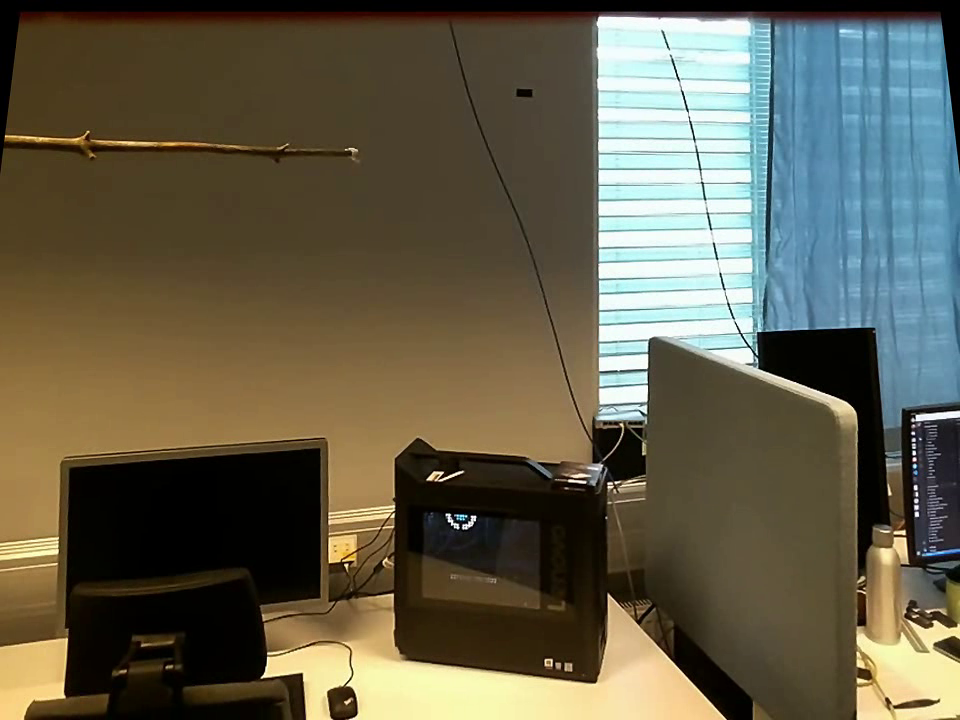branch: (4, 112, 342, 171)
